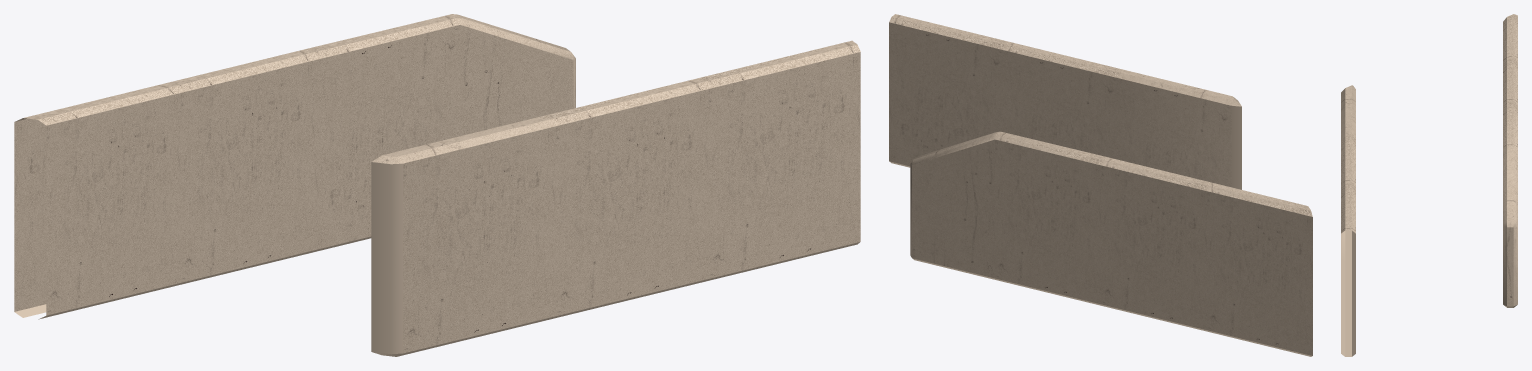
Rendered from Wall09.fbx.
3 views of the same model, side by side, from view 1: azimuth 30°, elevation 25°; view 2: azimuth 150°, elevation 25°; view 3: azimuth 270°, elevation 25° (orthographic). The views are drawn at different scales.
Parts seen in each view (by area): view 1: Wall09; view 2: Wall09; view 3: Wall09.
Boxes of the visible parts, box(x1,y1,x2,y2) form: Wall09: box(14, 14, 860, 356); Wall09: box(889, 14, 1312, 356); Wall09: box(1341, 14, 1517, 356).
Size of the model in its own units: 1208 by 326 by 414.
